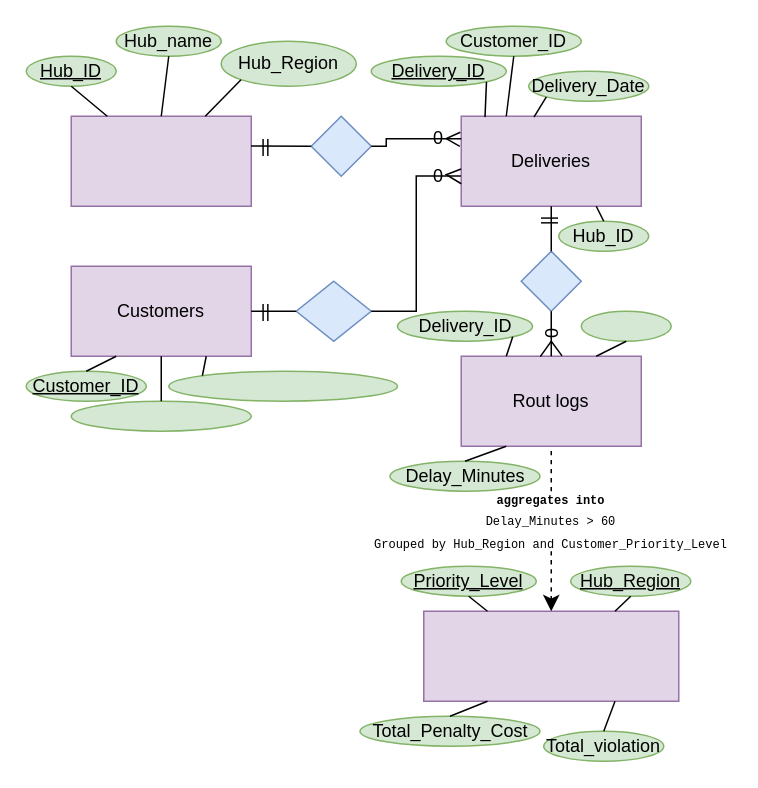
Some shapes in this 758 by 788 pixel diagram are drawn without their labels. The shapes that lost their labels are listed below. From the top down, each one's centre as x and y in pixels, then its label:
pixel 160 160: Hubs
pixel 340 145: host
pixel 550 280: has
pixel 333 310: request
pixel 625 325: Route_ID
pixel 282 385: Customer_Priority_Level
pixel 160 415: Customer_name
pixel 550 655: Fact_SLA_Region_summary
